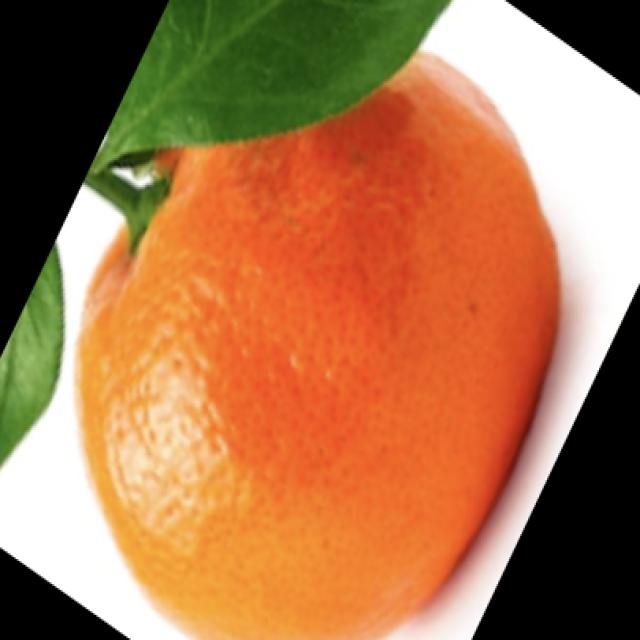orange: (44, 38, 624, 640)
